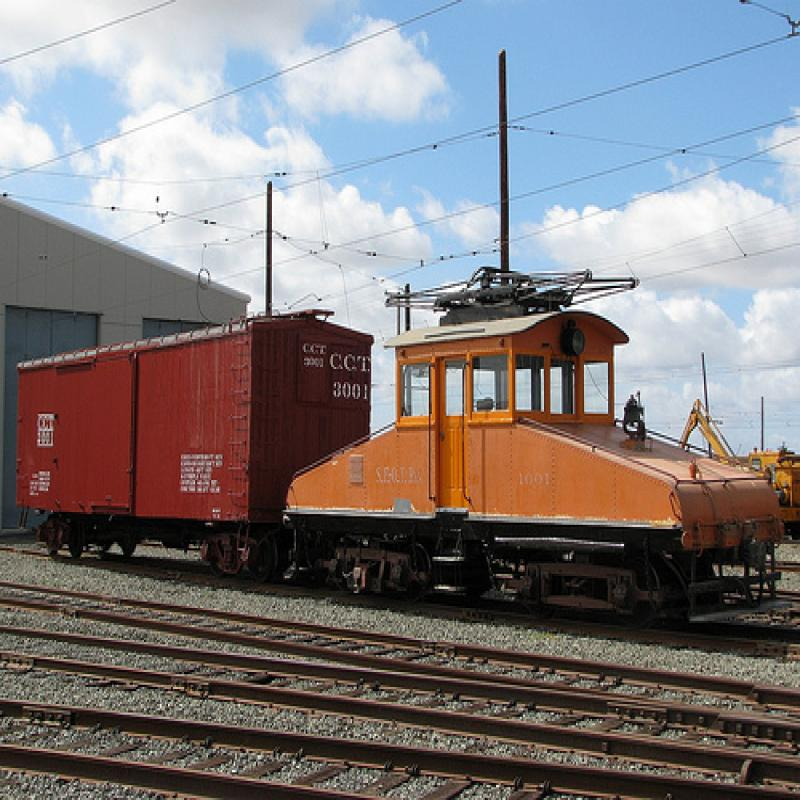train: (14, 263, 793, 626)
